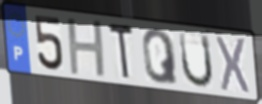5: (32, 14, 65, 73)
H: (65, 18, 108, 79)
Q: (140, 28, 181, 87)
T: (107, 21, 135, 83)
U: (177, 29, 215, 90)
X: (214, 34, 251, 97)
